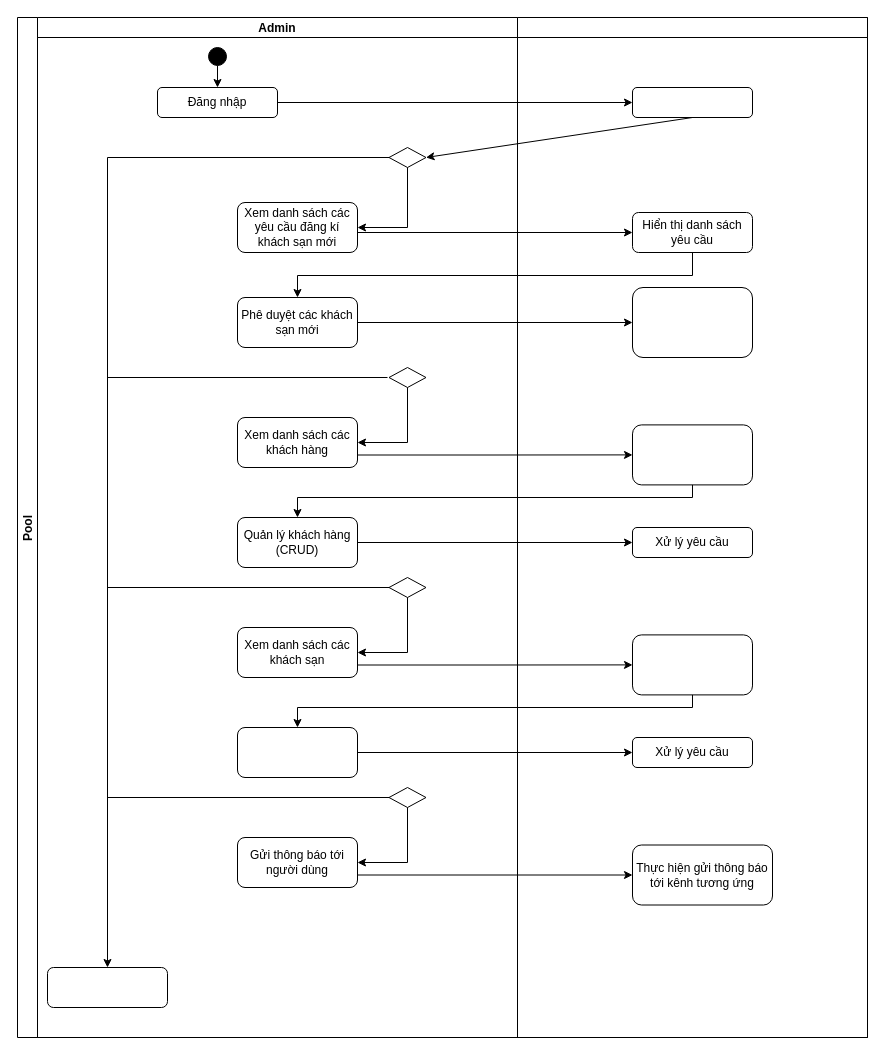
The diagram is 885 pixels wide and 1055 high, and some of its shapes have lost their labels. The box of each missing label's shape, as (x1, y1, x2, y2) in pixels:
Hiển thị danh sách khách hàng: (632, 424, 752, 485)
Hiển thị danh sách khách sạn: (632, 634, 752, 695)
Hệ thống: (516, 16, 868, 1038)
Lưu trữ, triển khai thông tin khách sạn mới lên nền tảng: (632, 286, 752, 358)
Quản lý khách sạn (CRUD): (236, 726, 358, 778)
Xác thực: (632, 86, 752, 118)
Đăng xuất: (46, 966, 168, 1008)
